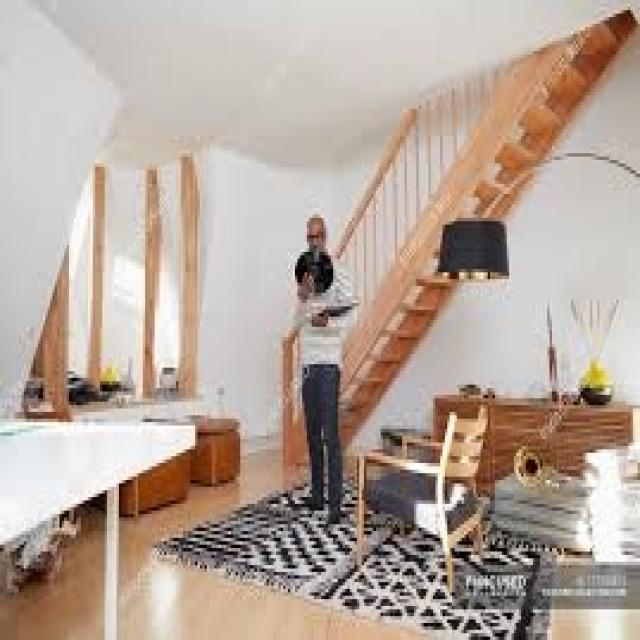walking: (281, 206, 359, 530)
